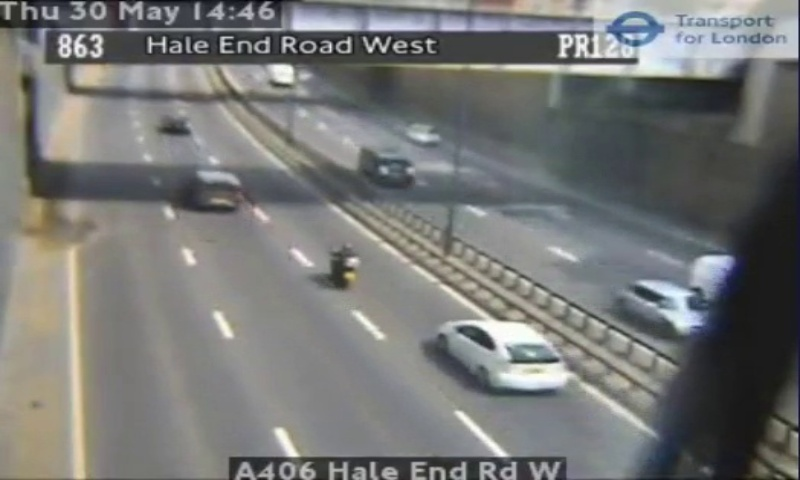car: (439, 319, 569, 392)
motorcycle: (329, 241, 360, 290)
van: (189, 170, 242, 208)
